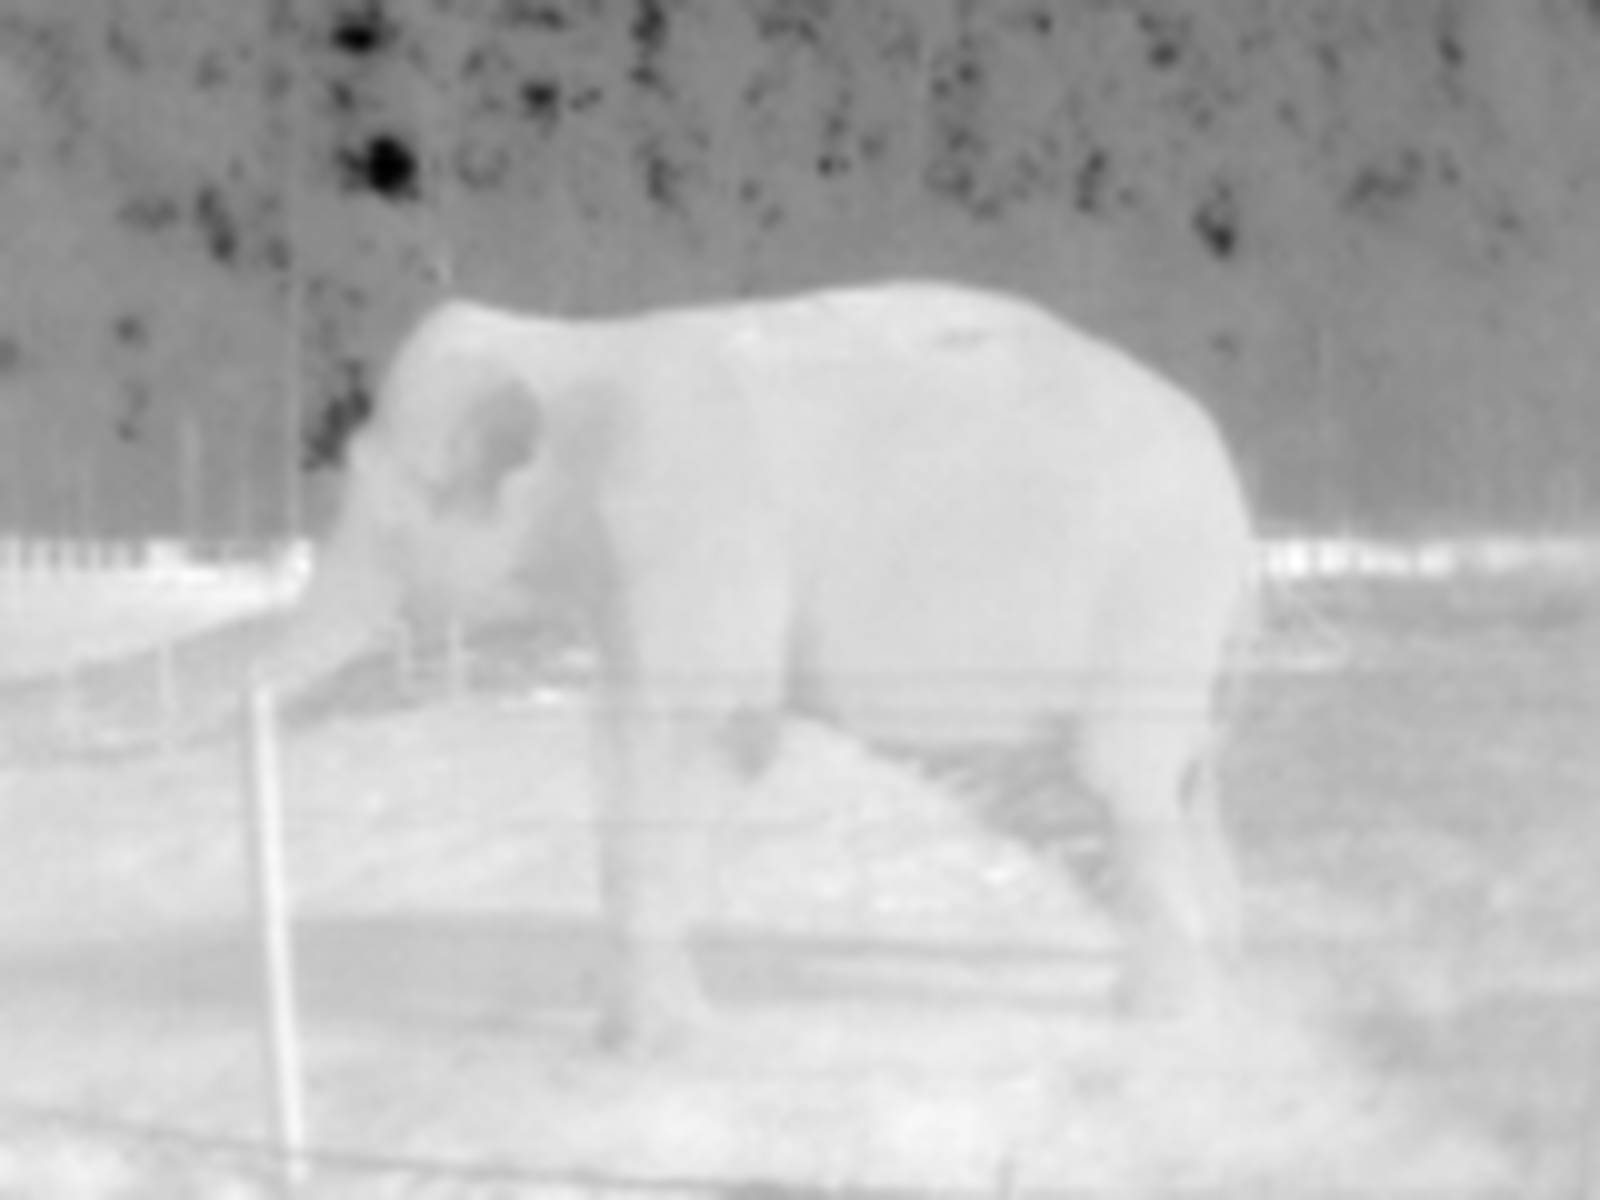elephant: (236, 285, 1257, 1053)
